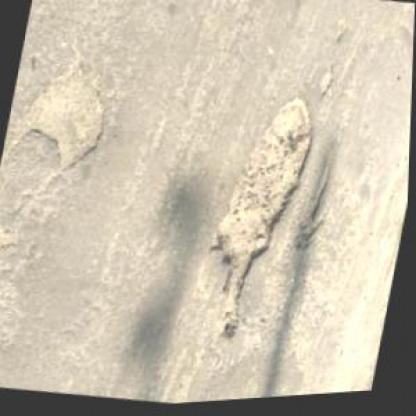pothole: (191, 89, 323, 354), (4, 64, 114, 179), (291, 162, 337, 261), (316, 68, 337, 100)
